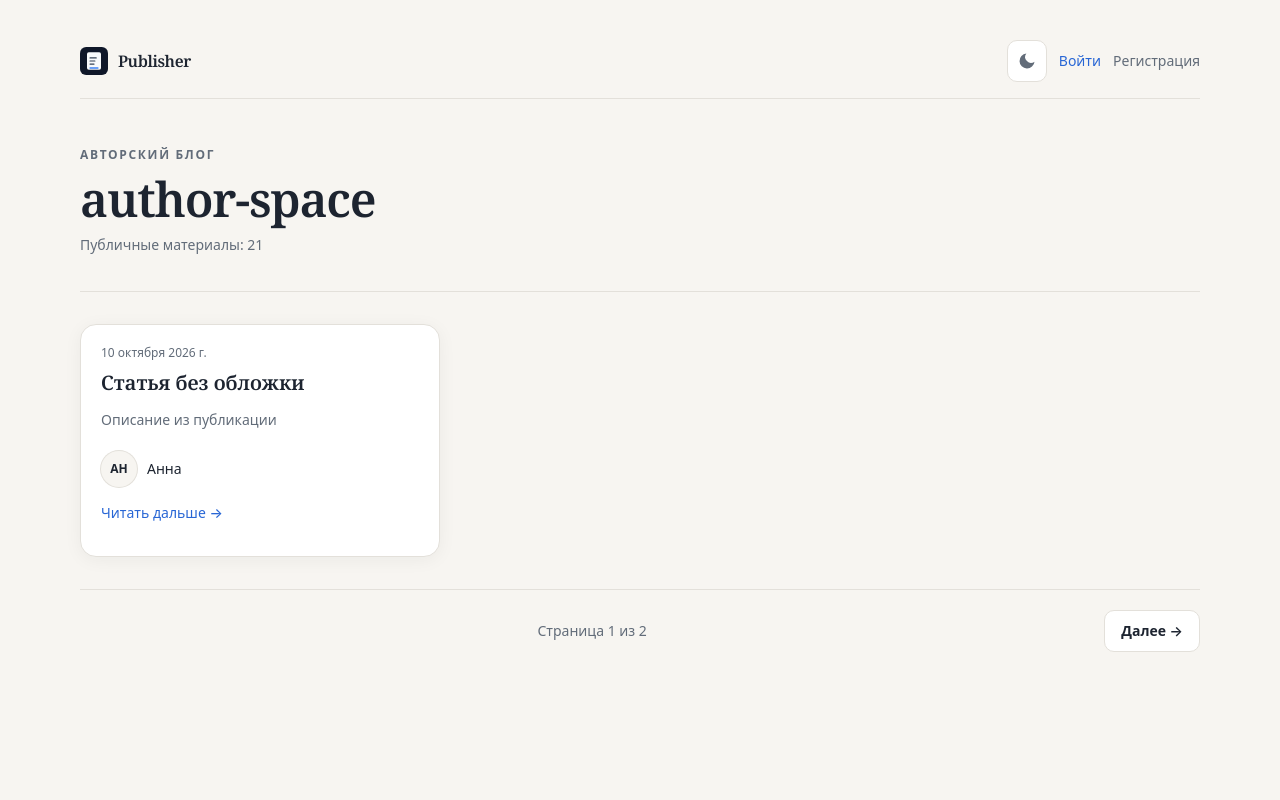
public pages › renders a text-only blog card and navigates the existing public pages
expect the heading "Статья без обложки" is shown: met, box 101,369 -> 305,396
expect the text "Описание из публикации" is shown: met, box 101,410 -> 277,428
Click the link "Далее →": (1152, 631) 1104,610 -> 1200,652
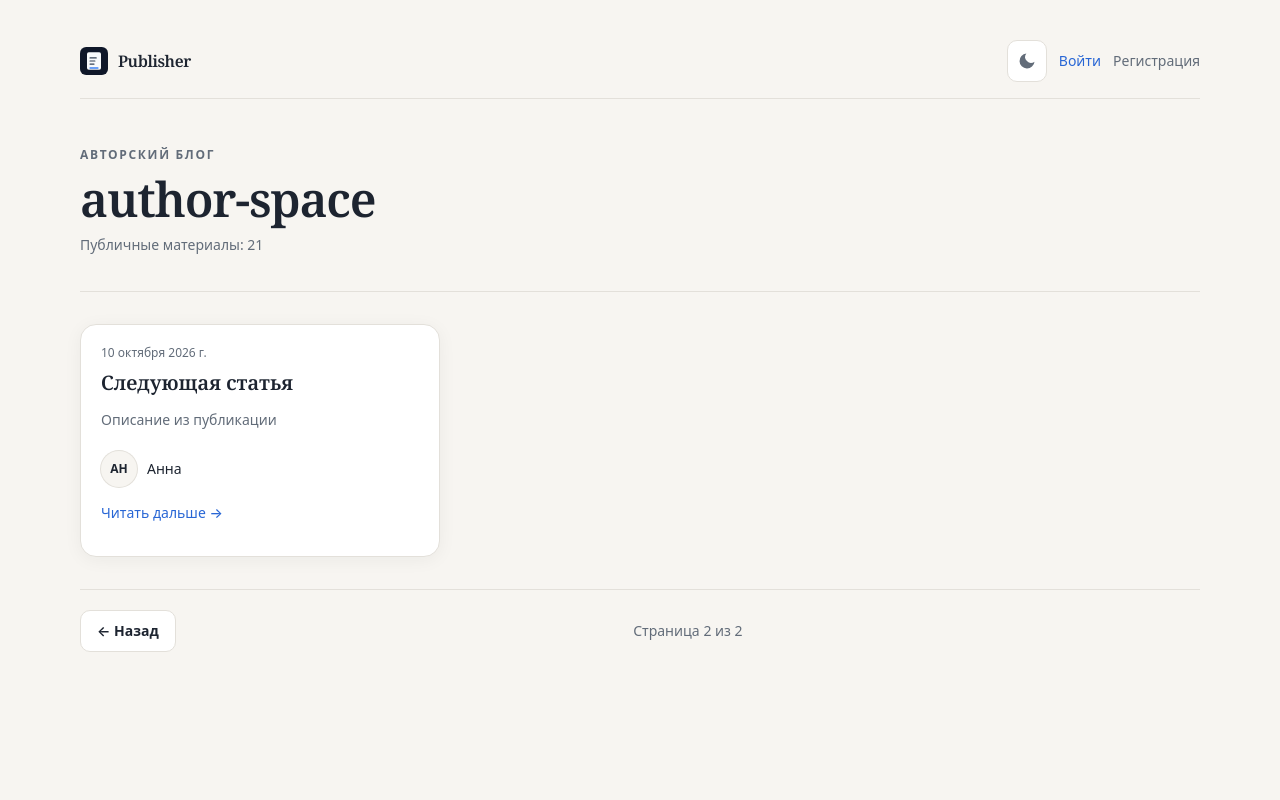
expect the heading "Следующая статья" is shown: met, box 101,369 -> 293,396
